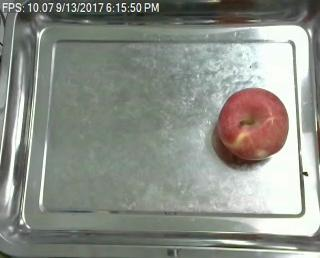apple: (216, 87, 290, 161)
